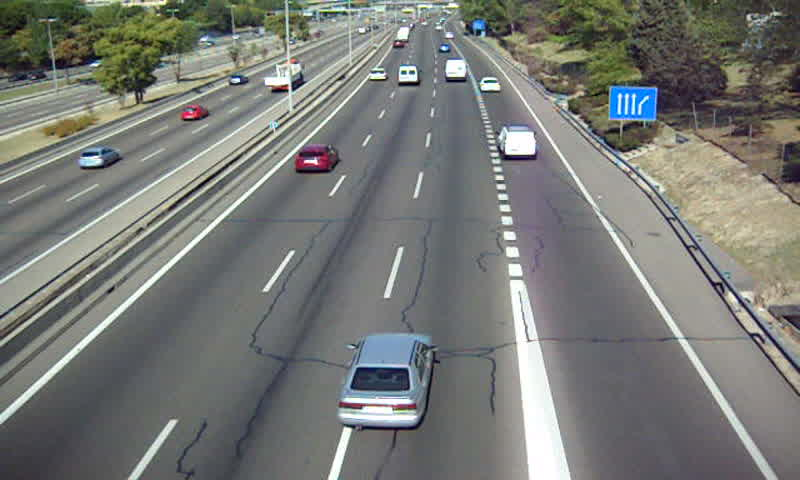car: (336, 334, 435, 429), (294, 145, 339, 172), (478, 76, 502, 93), (367, 67, 388, 81)
van: (499, 125, 537, 160), (444, 59, 468, 81), (397, 65, 419, 87)
